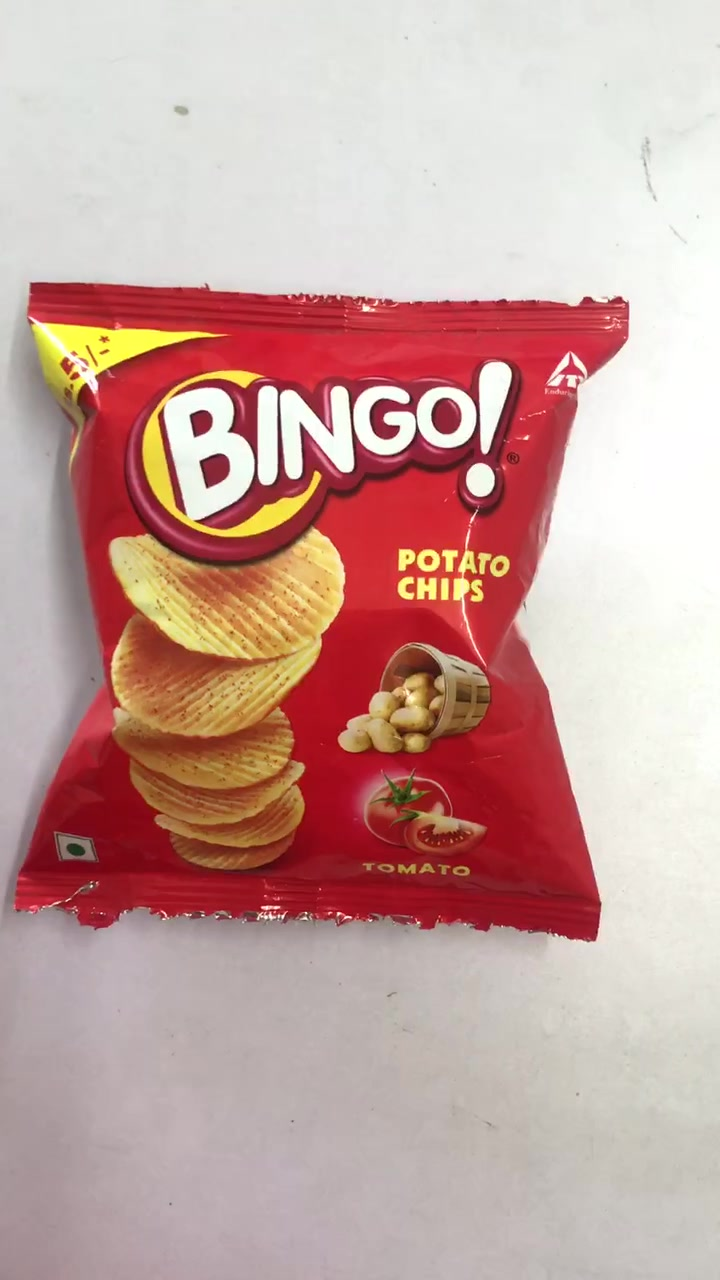Bingo: (28, 285, 601, 934)
